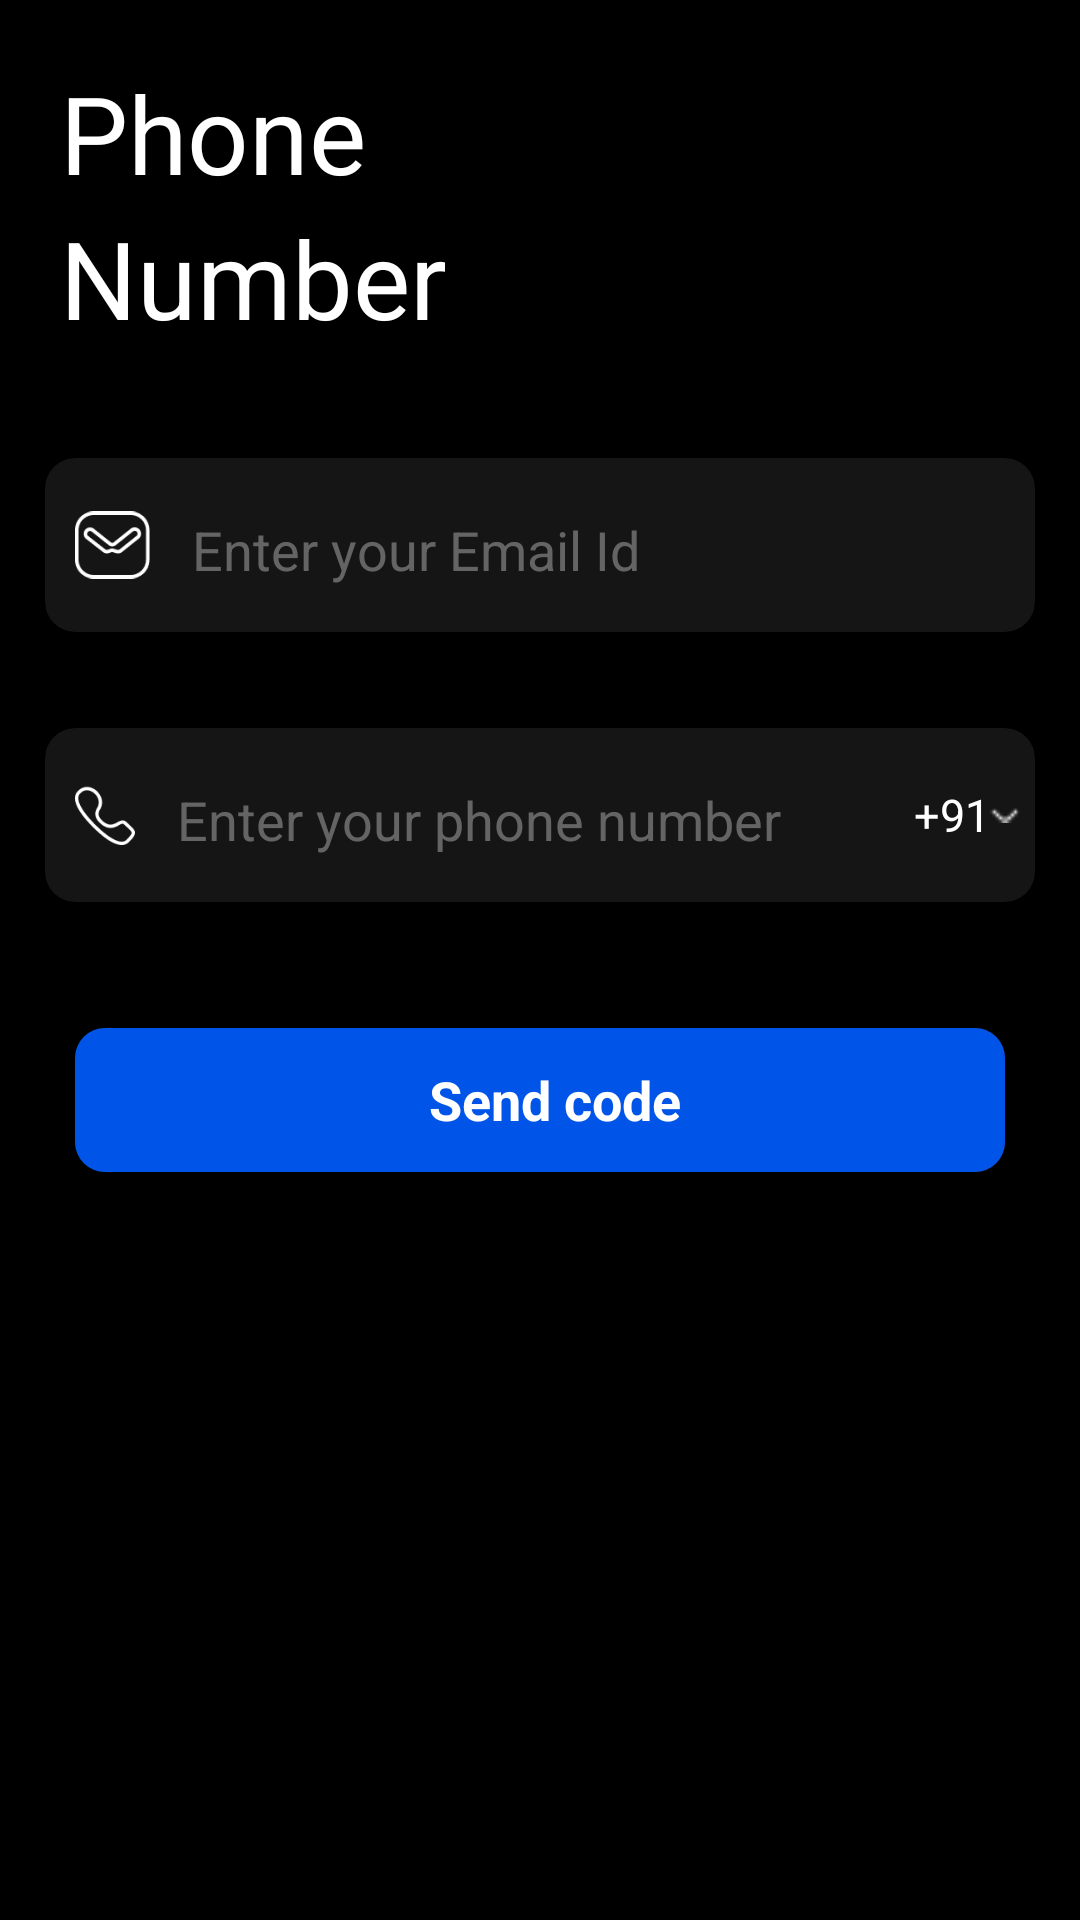

Icon click points for this 1080*1920 phone screenshot, format [x,y]:
call: [105,815]
